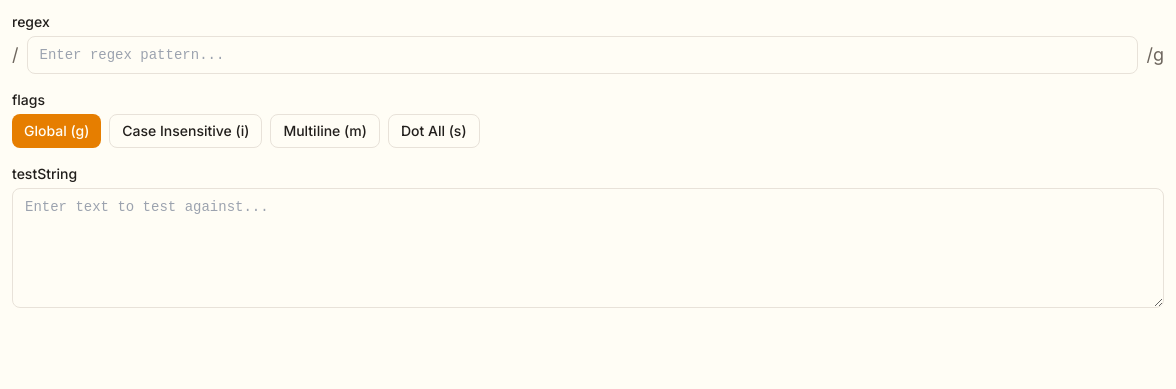
it: RegexTester › shows "No matches found" when pattern does not match
Type "xyz" into the field with placeholder "Enter regex pattern..." at (582, 55), box x1=26 y1=36 x2=1138 y2=74
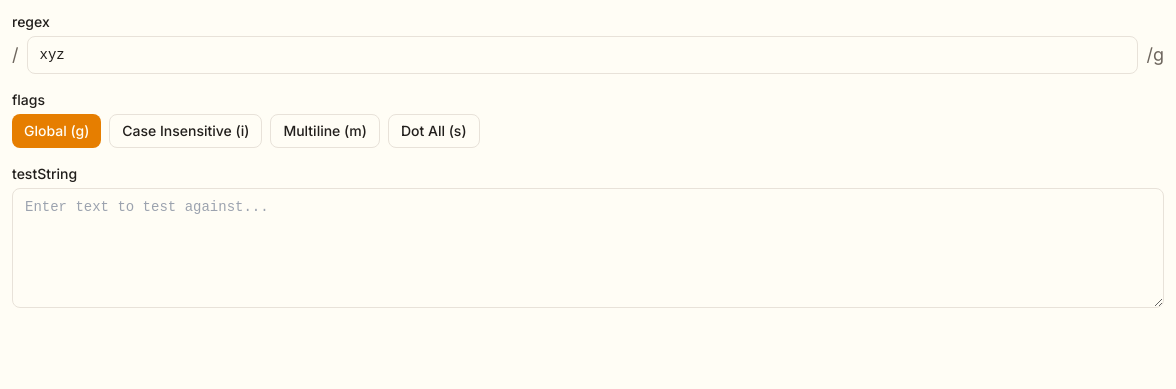
Type "hello world" into the text box with placeholder "Enter text to test against..." at (588, 248), box x1=12 y1=188 x2=1164 y2=308
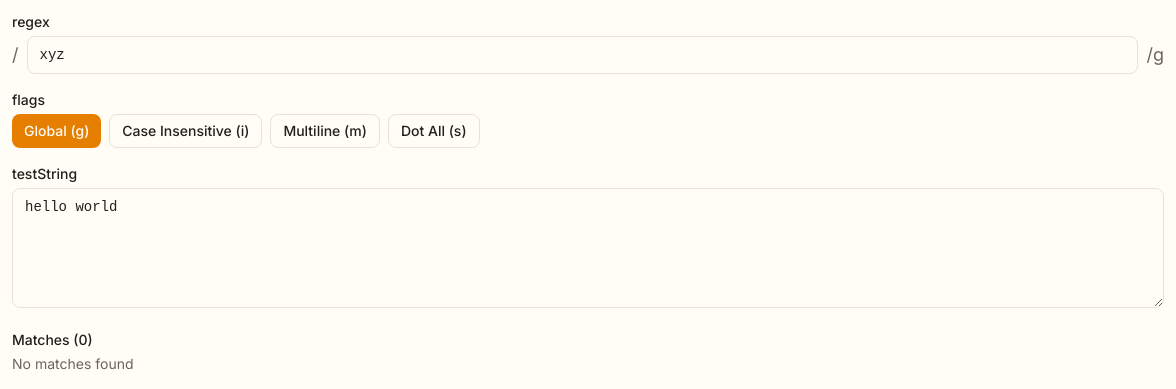
Check: the text "No matches found" is shown, box x1=12 y1=355 x2=134 y2=372
